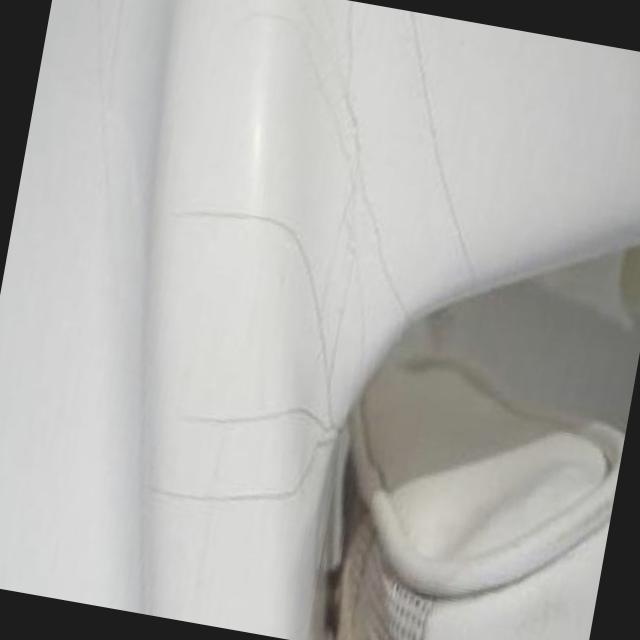crack: (150, 204, 342, 512), (343, 6, 416, 330), (406, 17, 481, 288)
